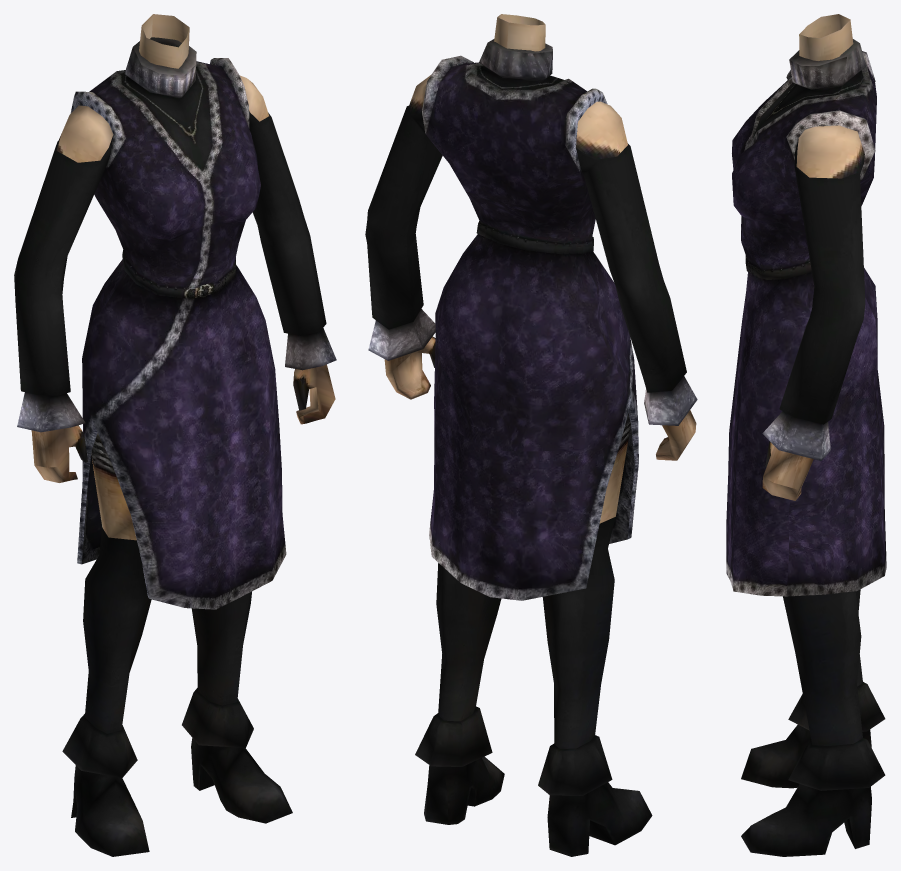
Rendered from HUM_ARMOR_DRESS_06.glb.
3 views of the same model, side by side, from view 1: azimuth 30°, elevation 25°; view 2: azimuth 150°, elevation 25°; view 3: azimuth 270°, elevation 25° (orthographic). The views are drawn at different scales.
Visible parts, largest first — view 1: HUM_ARMOR_DRESS_06; view 2: HUM_ARMOR_DRESS_06; view 3: HUM_ARMOR_DRESS_06.
Boxes of the visible parts, x1,y1,x2,y2 form: HUM_ARMOR_DRESS_06: (14,14,336,856); HUM_ARMOR_DRESS_06: (365,14,697,856); HUM_ARMOR_DRESS_06: (726,14,886,856).
Bounding box in the file's own units: 0.6694 × 1.67 × 0.307.
Materials: 2 (2 with a texture image).
